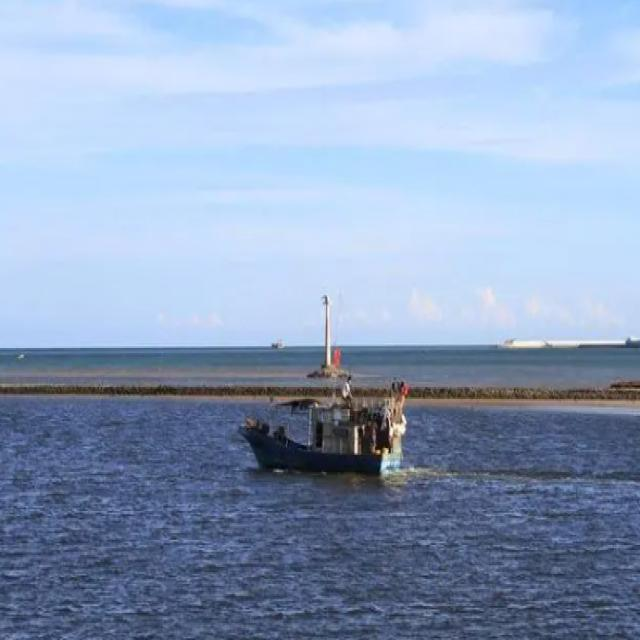fishing boat: (240, 372, 408, 476)
